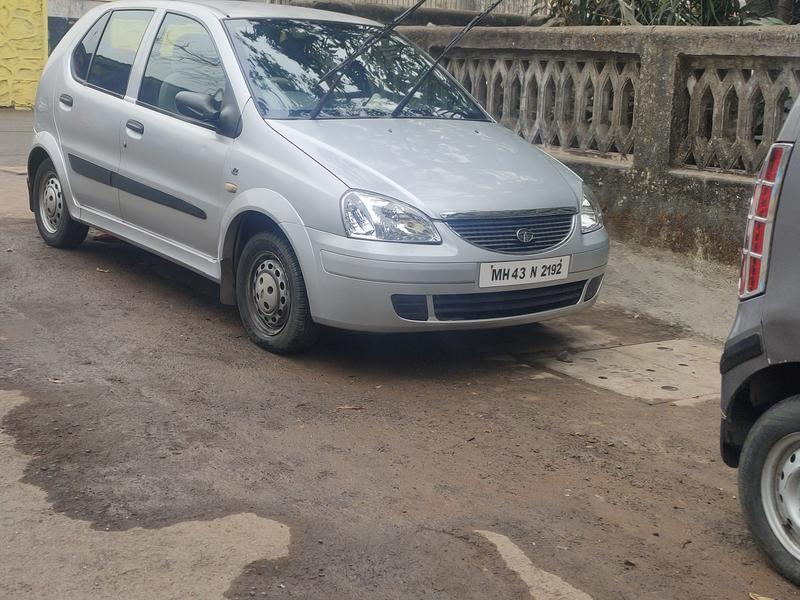license_plate: (475, 254, 583, 298)
